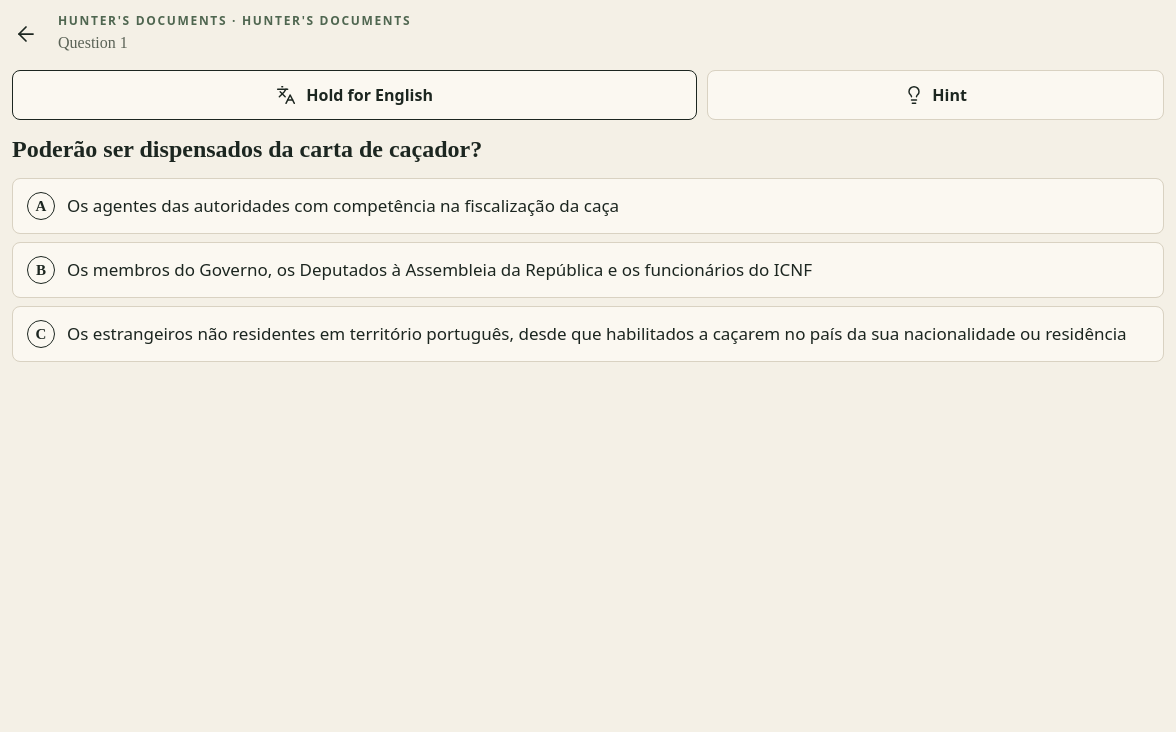
Test case: PracticePage › the hint panel (D23) › stays closed when answering with it closed; a later Hint tap shows notes and nudge
Click the 3rd button.
click(588, 206)  # box [12,178,1164,234]
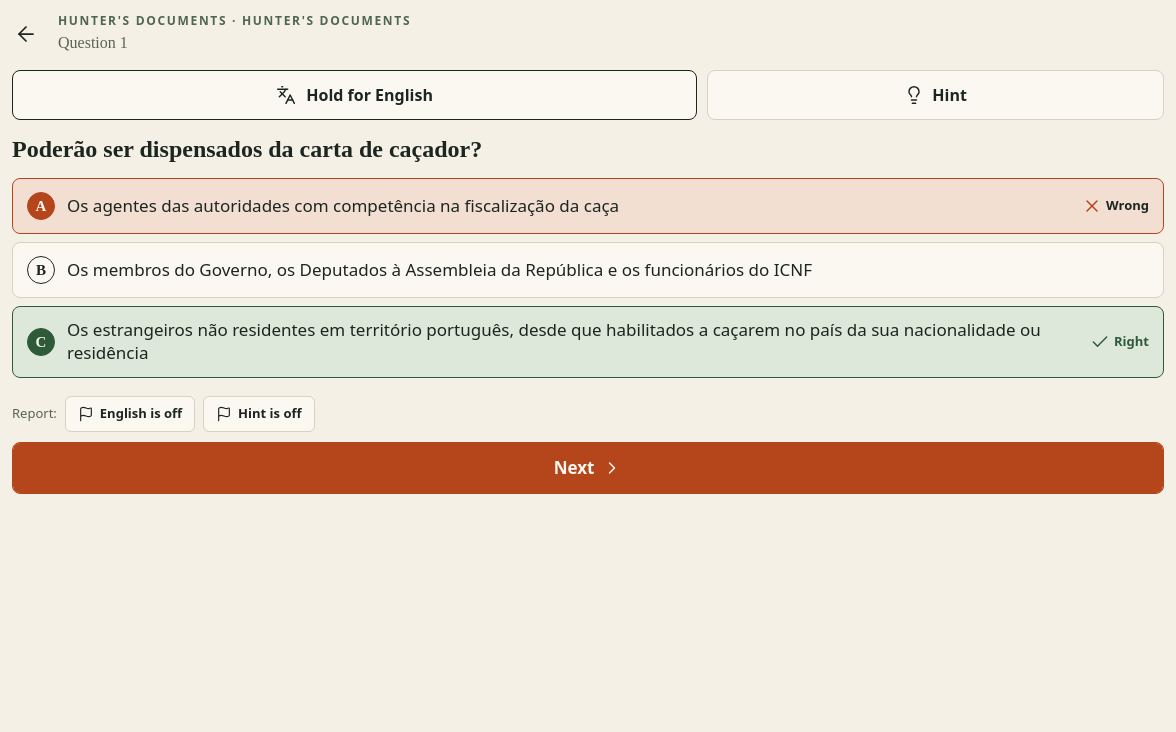
Click the button "Hint".
click(936, 95)  # box [707,70,1164,120]
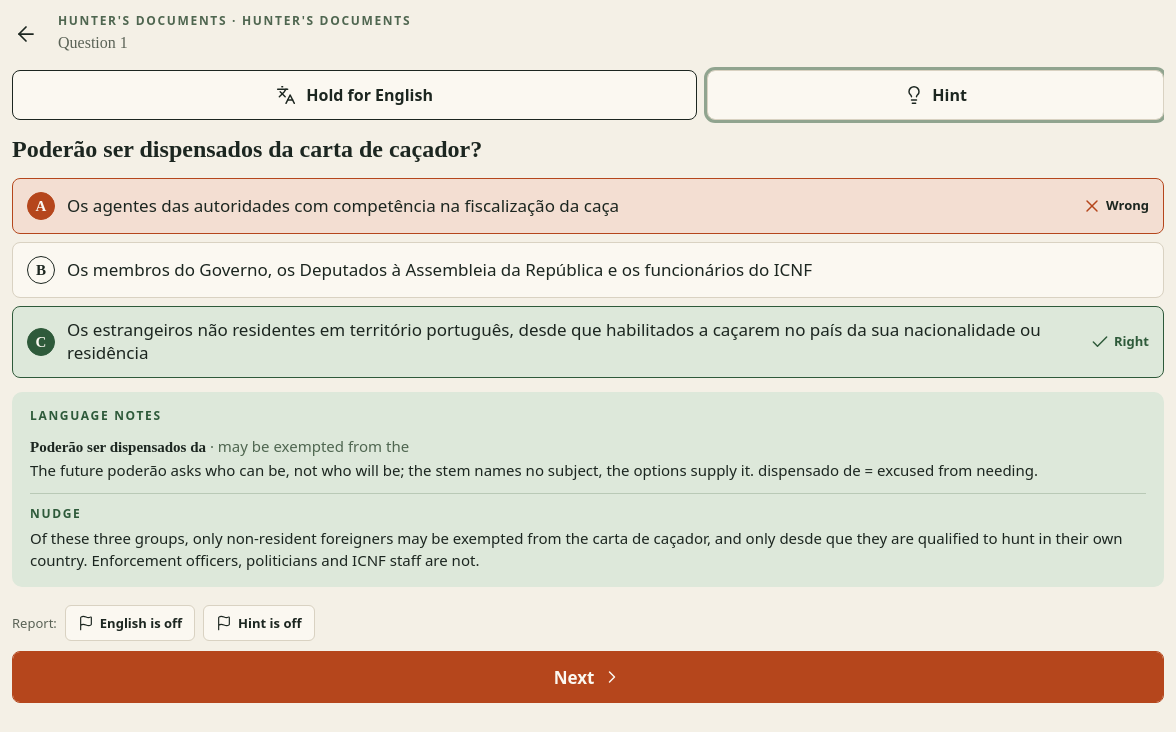
Check: the text "The future poderão asks who can be, not who will be; the stem names no subject, the options supply it. dispensado de = e" is shown, box [30,460,1038,480]
Check: the text "Of these three groups, only non-resident foreigners may be exempted from the carta de caçador, and only desde que they a" is shown, box [30,528,1122,570]
